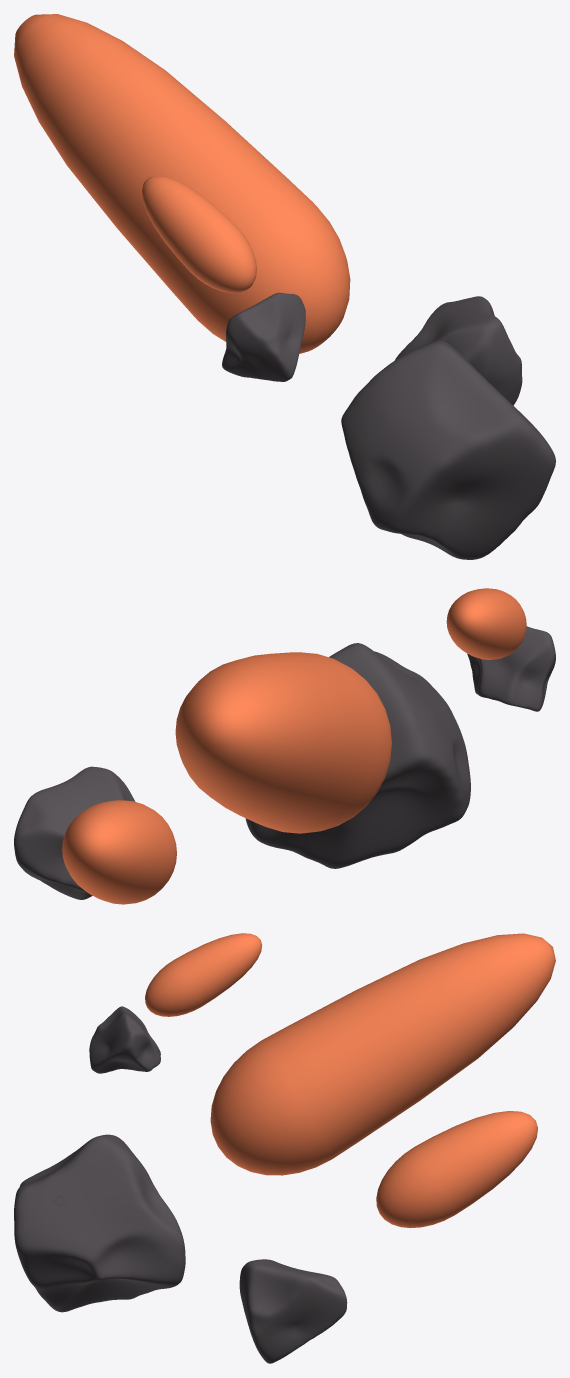
Rendered from asteroid2.glb.
3 views of the same model, one above another, from view 1: azimuth 30°, elevation 25°; view 2: azimuth 150°, elevation 25°; view 3: azimuth 270°, elevation 25° (orthographic). The views are drawn at different scales.
Visible parts, largest first — view 1: Sphere.002, Cube.003, Sphere, Cube.001, Cube.002; view 2: Sphere.002, Cube.003, Sphere.001, Cube.002, Cube.001, Sphere; view 3: Sphere.002, Cube.003, Sphere.001, Cube.002, Sphere, Cube.001.
Boxes of the visible parts, x1,y1,x2,y2 form: Sphere.002: [14, 14, 350, 353]; Cube.003: [341, 341, 555, 559]; Sphere: [141, 176, 256, 293]; Cube.001: [222, 292, 305, 381]; Cube.002: [395, 296, 522, 405]; Sphere.002: [175, 652, 391, 833]; Cube.003: [245, 643, 470, 868]; Sphere.001: [62, 800, 176, 904]; Cube.002: [14, 766, 135, 899]; Cube.001: [467, 626, 555, 711]; Sphere: [446, 588, 526, 659]; Sphere.002: [210, 933, 555, 1175]; Cube.003: [14, 1134, 185, 1312]; Sphere.001: [376, 1111, 537, 1228]; Cube.002: [239, 1259, 347, 1363]; Sphere: [145, 933, 262, 1016]; Cube.001: [89, 1006, 160, 1073].
Bounding box in the file's own units: 4.98 × 4.64 × 7.25.
